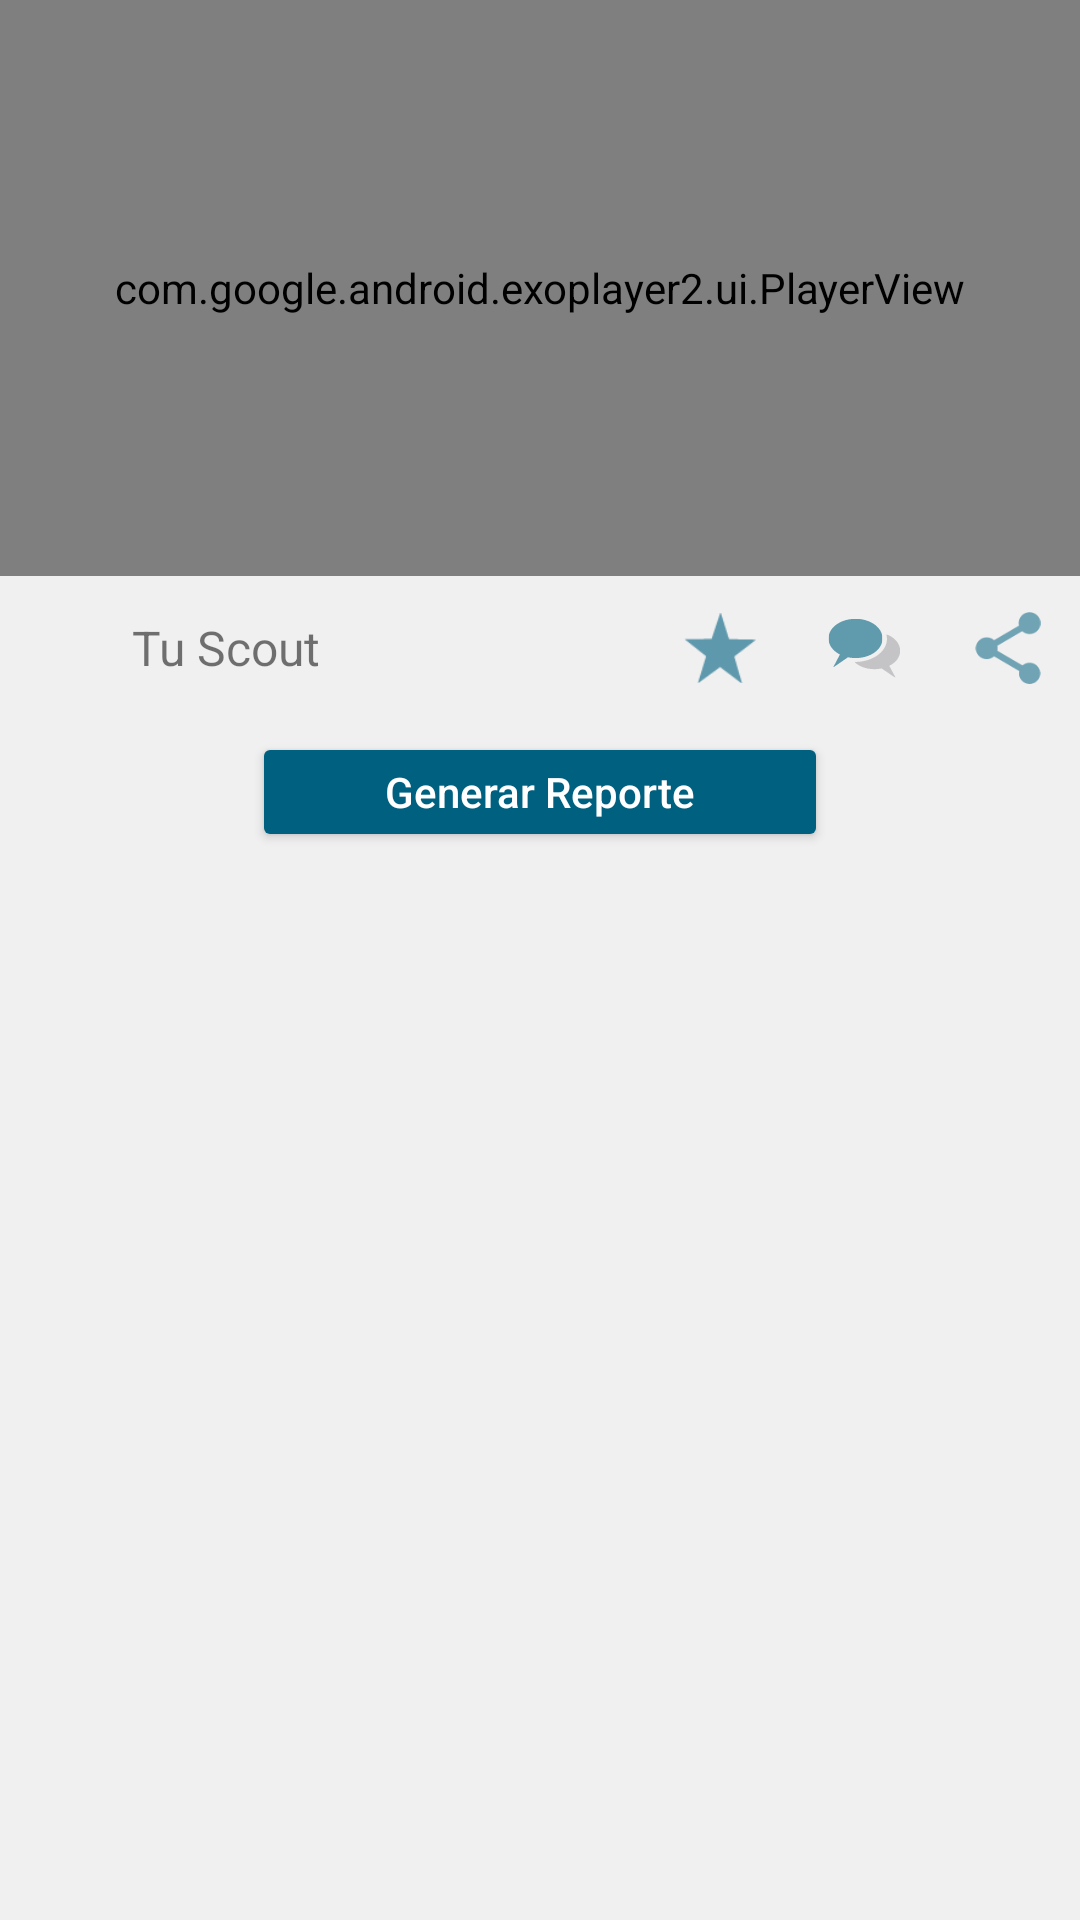

Named icons in this screenshot (1080×1920) and their bounding boxes, (x1, y1, x2, y2):
comments: (829, 619, 900, 677)
share: (975, 612, 1041, 684)
star: (685, 613, 756, 683)
